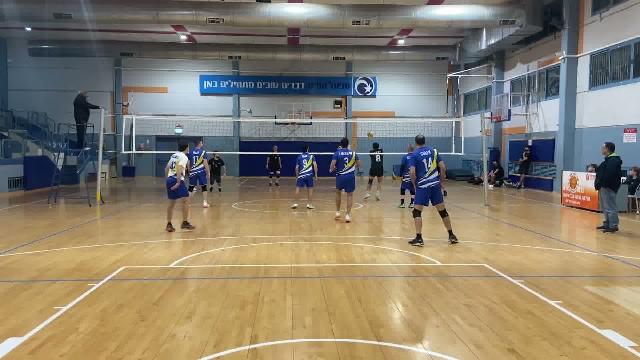ball: (365, 131, 374, 139)
